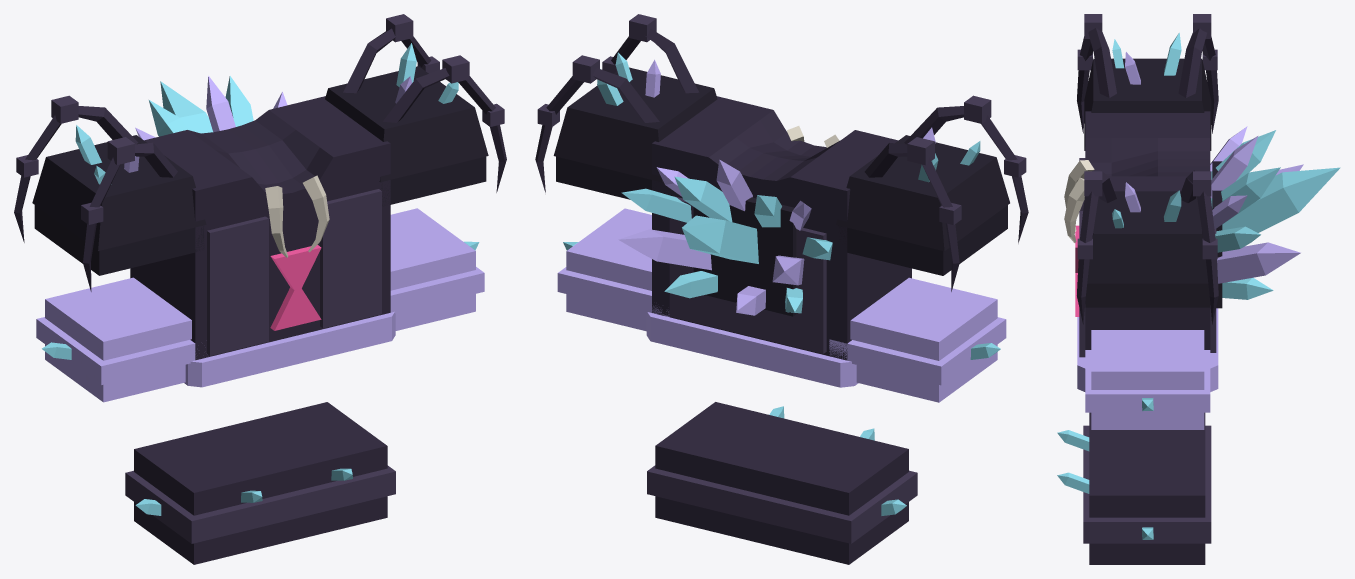
The model's file is w3_armor_crystalqueen.fbx.
The picture shows the model from 3 angles, left to right: view 1: azimuth 30°, elevation 25°; view 2: azimuth 150°, elevation 25°; view 3: azimuth 270°, elevation 25°; orthographic projection. The views are drawn at different scales.
Parts seen in each view (by area): view 1: CrystalQueen.Chest, CrystalQueen.ChestPlates, CrystalQueen.PadR, CrystalQueen.GloveR, CrystalQueen.PadL, CrystalQueen.BootTopR, CrystalQueen.GloveL, CrystalQueen.BootTopL, CrystalQueen.HipSilk, CrystalQueen.BootMidR, CrystalQueen.LegsR, CrystalQueen.LegsL (+11 smaller); view 2: CrystalQueen.Chest, CrystalQueen.PadR, CrystalQueen.GloveR, CrystalQueen.PadL, CrystalQueen.BootTopR, CrystalQueen.BootTopL, CrystalQueen.BurstCyan, CrystalQueen.GloveL, CrystalQueen.ChestPlates, CrystalQueen.HipSilk, CrystalQueen.BurstLilac, CrystalQueen.BurstBase (+9 smaller); view 3: CrystalQueen.PadL, CrystalQueen.GloveL, CrystalQueen.Chest, CrystalQueen.BootTopL, CrystalQueen.BurstCyan, CrystalQueen.PadR, CrystalQueen.BurstLilac, CrystalQueen.BootMidL, CrystalQueen.LegsR, CrystalQueen.LegsL, CrystalQueen.BootLowL, CrystalQueen.BootTopR (+11 smaller).
Boxes of the visible parts, left/top/right/bottom form: CrystalQueen.Chest: left=130, top=96, right=390, bottom=360; CrystalQueen.ChestPlates: left=207, top=189, right=381, bottom=355; CrystalQueen.PadR: left=32, top=135, right=206, bottom=275; CrystalQueen.GloveR: left=36, top=277, right=195, bottom=402; CrystalQueen.PadL: left=325, top=66, right=488, bottom=206; CrystalQueen.BootTopR: left=134, top=424, right=296, bottom=515; CrystalQueen.GloveL: left=390, top=208, right=484, bottom=330; CrystalQueen.BootTopL: left=225, top=402, right=387, bottom=490; CrystalQueen.HipSilk: left=184, top=311, right=395, bottom=387; CrystalQueen.BootMidR: left=125, top=470, right=305, bottom=543; CrystalQueen.LegsR: left=14, top=106, right=177, bottom=291; CrystalQueen.LegsL: left=343, top=28, right=506, bottom=192; CrystalQueen.Chest: left=652, top=96, right=911, bottom=360; CrystalQueen.PadR: left=836, top=135, right=1009, bottom=275; CrystalQueen.GloveR: left=829, top=277, right=1006, bottom=402; CrystalQueen.PadL: left=553, top=67, right=717, bottom=199; CrystalQueen.BootTopR: left=746, top=427, right=908, bottom=515; CrystalQueen.BootTopL: left=655, top=402, right=817, bottom=493; CrystalQueen.BurstCyan: left=621, top=176, right=832, bottom=313; CrystalQueen.GloveL: left=557, top=208, right=669, bottom=331; CrystalQueen.ChestPlates: left=669, top=196, right=826, bottom=353; CrystalQueen.HipSilk: left=646, top=312, right=858, bottom=387; CrystalQueen.BurstLilac: left=618, top=159, right=811, bottom=315; CrystalQueen.BurstBase: left=693, top=189, right=796, bottom=316; CrystalQueen.PadL: left=1085, top=191, right=1210, bottom=307; CrystalQueen.GloveL: left=1085, top=330, right=1210, bottom=429; CrystalQueen.Chest: left=1085, top=111, right=1210, bottom=349; CrystalQueen.BootTopL: left=1089, top=447, right=1205, bottom=517; CrystalQueen.BurstCyan: left=1211, top=130, right=1340, bottom=299; CrystalQueen.PadR: left=1084, top=58, right=1211, bottom=150; CrystalQueen.BurstLilac: left=1210, top=126, right=1303, bottom=283; CrystalQueen.BootMidL: left=1083, top=468, right=1211, bottom=543; CrystalQueen.LegsR: left=1077, top=28, right=1218, bottom=133; CrystalQueen.LegsL: left=1077, top=170, right=1218, bottom=324; CrystalQueen.BootLowL: left=1089, top=543, right=1205, bottom=564; CrystalQueen.BootTopR: left=1089, top=412, right=1205, bottom=452.
Bounding box in the file's own units: 4.84 × 4.63 × 2.82.
